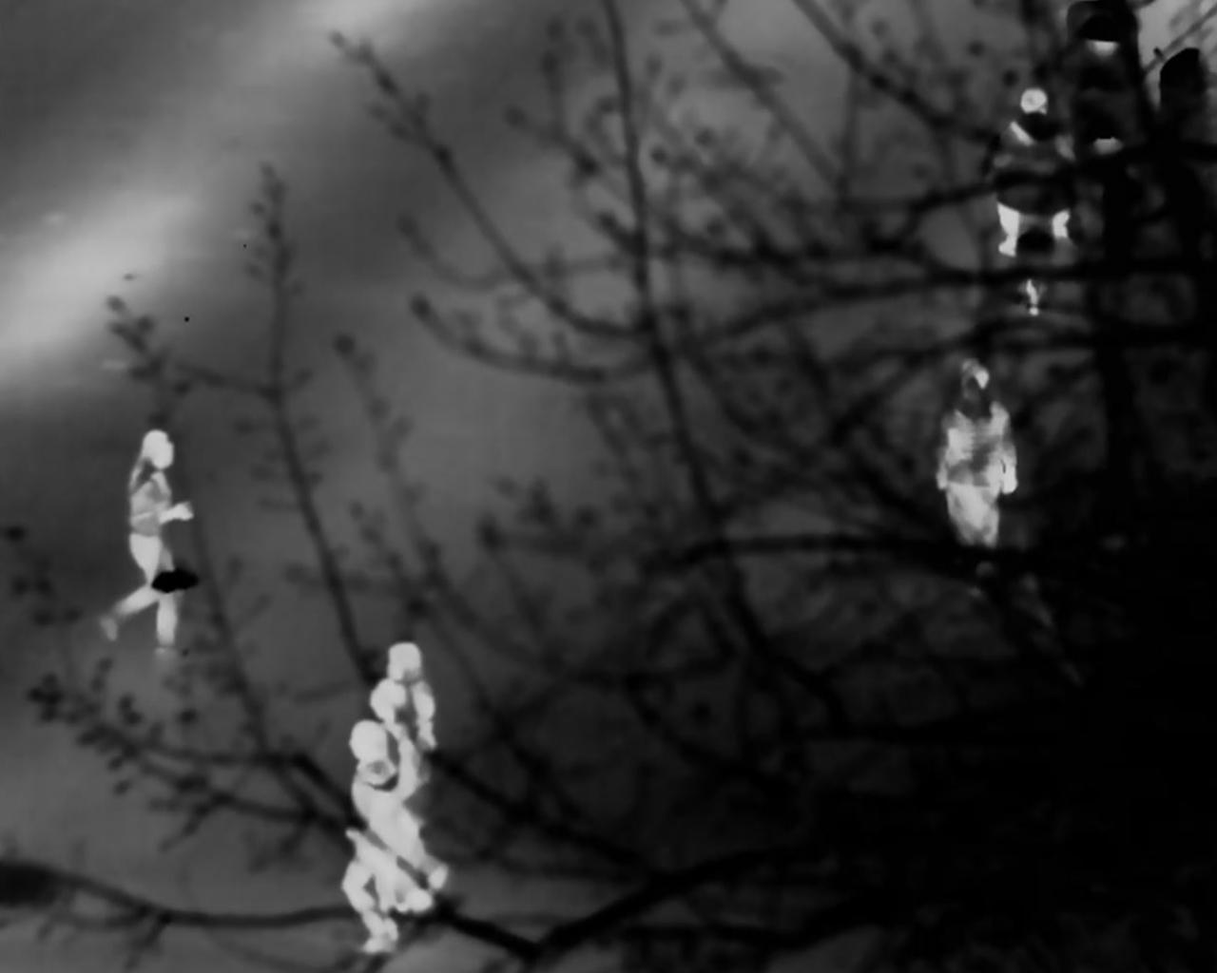person: (97, 428, 201, 658), (342, 718, 435, 951), (357, 641, 445, 857), (932, 365, 1018, 566), (357, 683, 431, 909), (1001, 77, 1077, 289)
